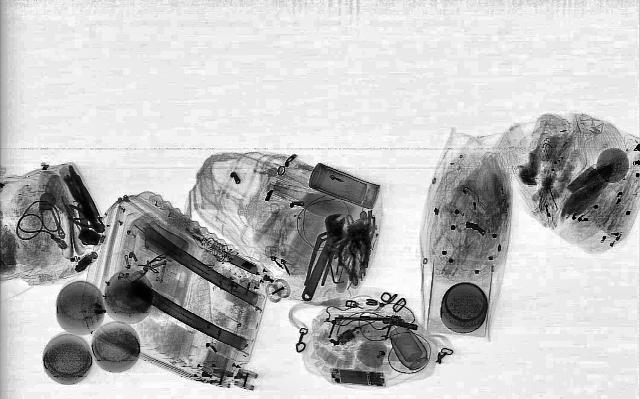Pliers: (56, 204, 112, 232)
Wrench: (291, 213, 354, 303)
